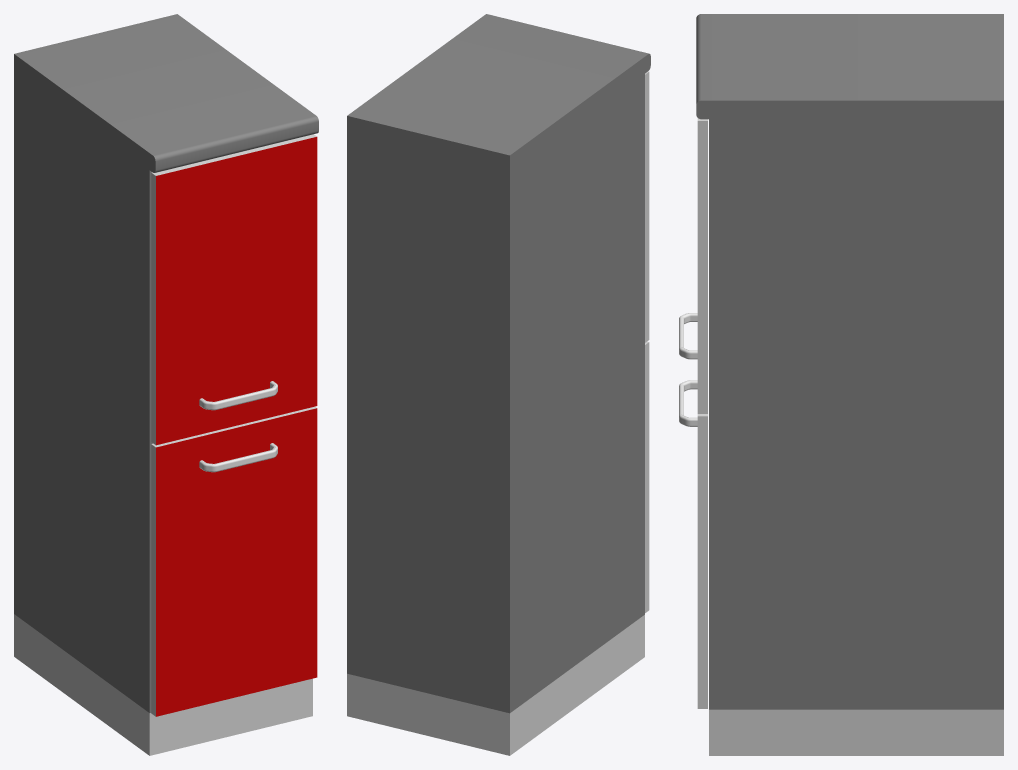
File: sweethome3d-lucapresidente-pantry-57.glb
3 renders of one model, left to right at view 1: azimuth 30°, elevation 25°; view 2: azimuth 150°, elevation 25°; view 3: azimuth 270°, elevation 25°, orthographic. The views are drawn at different scales.
Visible parts, largest first — view 1: Box67_6, Box662_2, Box692_10, Line70_5, Box68_7, Box663_3, Box693_11, Loft26_4, Loft27_8, Box69_9; view 2: Box67_6, Line70_5, Box68_7, Box693_11, Box663_3; view 3: Box67_6, Line70_5, Box68_7, Box663_3, Box693_11.
Part boxes in pixels (x1,y1,x2,y2): Box67_6: [14, 67, 152, 712]; Box662_2: [156, 408, 317, 716]; Box692_10: [156, 137, 317, 445]; Line70_5: [14, 14, 318, 172]; Box68_7: [14, 614, 312, 755]; Box663_3: [151, 444, 155, 716]; Box693_11: [151, 173, 155, 444]; Loft26_4: [199, 443, 277, 472]; Loft27_8: [199, 381, 277, 410]; Box69_9: [151, 134, 316, 175]; Box67_6: [347, 69, 644, 713]; Line70_5: [347, 14, 650, 172]; Box68_7: [347, 615, 644, 755]; Box693_11: [645, 72, 649, 342]; Box663_3: [645, 342, 649, 612]; Box67_6: [709, 114, 1003, 709]; Line70_5: [696, 14, 1003, 119]; Box68_7: [709, 709, 1003, 755]; Box663_3: [697, 416, 707, 708]; Box693_11: [697, 121, 707, 413].
Bounding box in the file's own units: 40 × 141 × 63.38.
